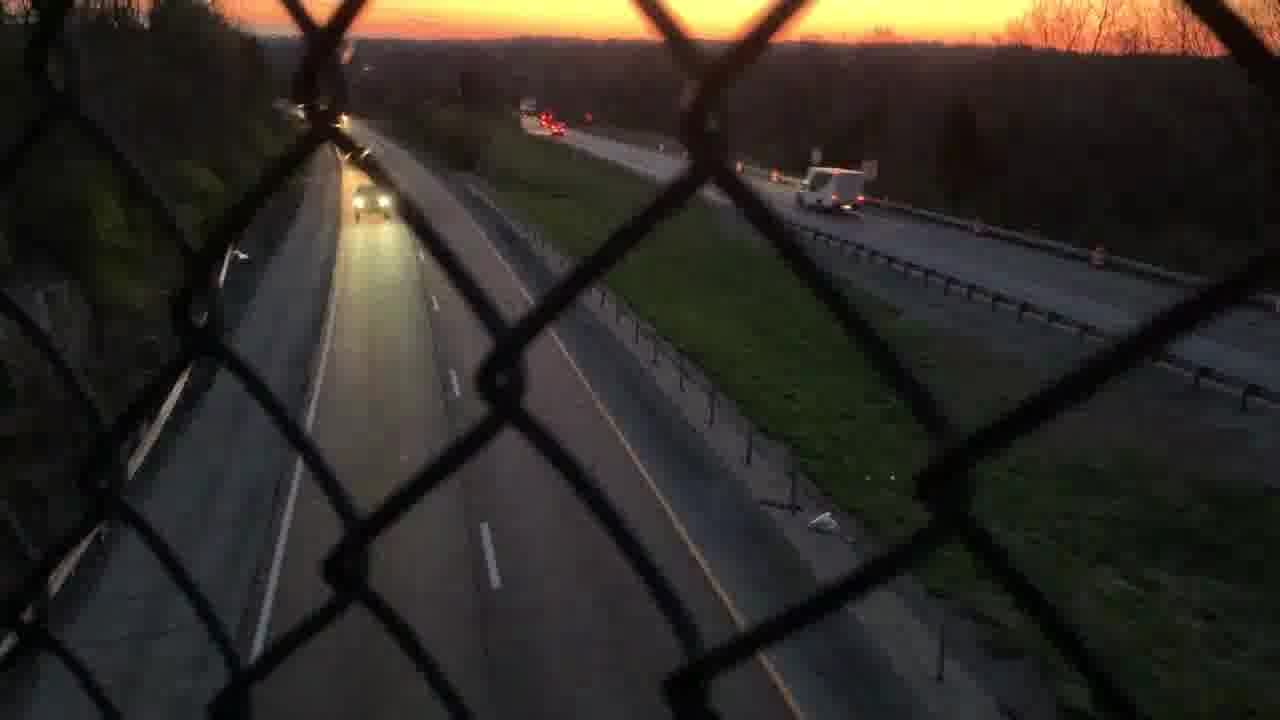heavyTruck: (792, 163, 871, 217)
largeCar: (351, 182, 400, 222)
